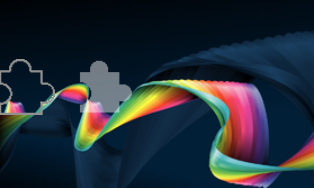target: (77, 59, 137, 117)
